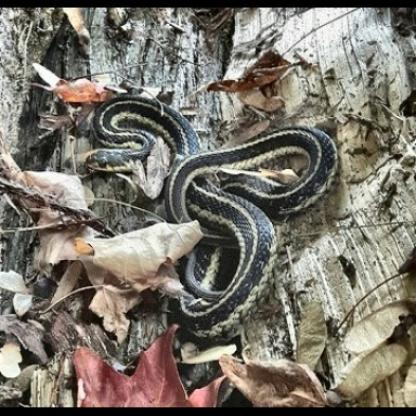Snake: (82, 39, 402, 341)
